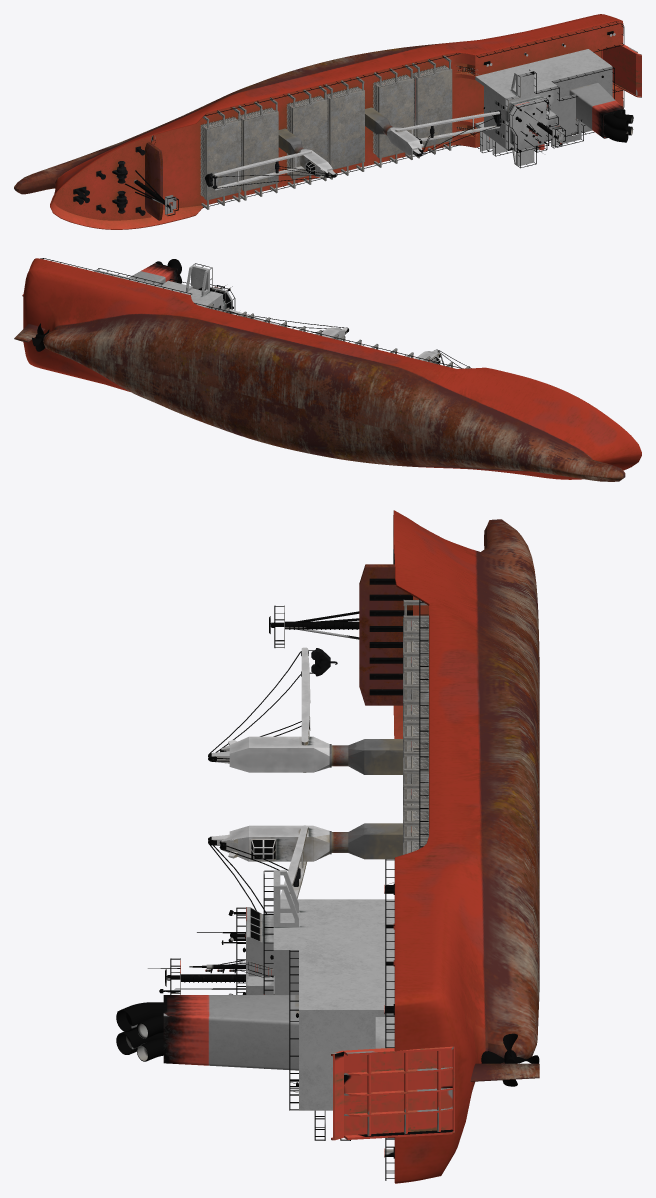
Rendered from CargoShip.fbx.
3 renders of one model, top to bottom at view 1: azimuth 30°, elevation 25°; view 2: azimuth 150°, elevation 25°; view 3: azimuth 270°, elevation 25°, orthographic. The views are drawn at different scales.
Visible parts, largest first — view 1: Object_9; view 2: Object_9; view 3: Object_9.
Part boxes in pixels (x1=…): Object_9: x1=14, y1=14, x2=641, y2=229; Object_9: x1=14, y1=258, x2=641, y2=481; Object_9: x1=116, y1=510, x2=539, y2=1183.
Bounding box in the file's own units: 127 × 39.75 × 19.26.
Materials: 3 (3 with a texture image).
